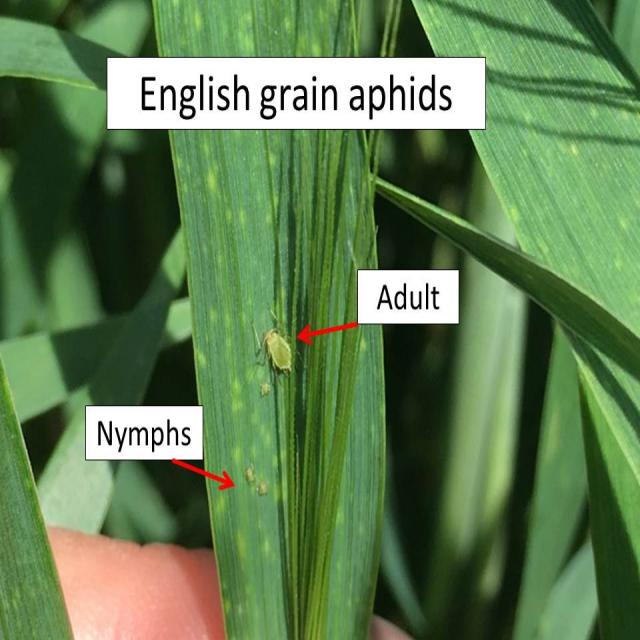Aphid-Grown-: (246, 301, 302, 385)
